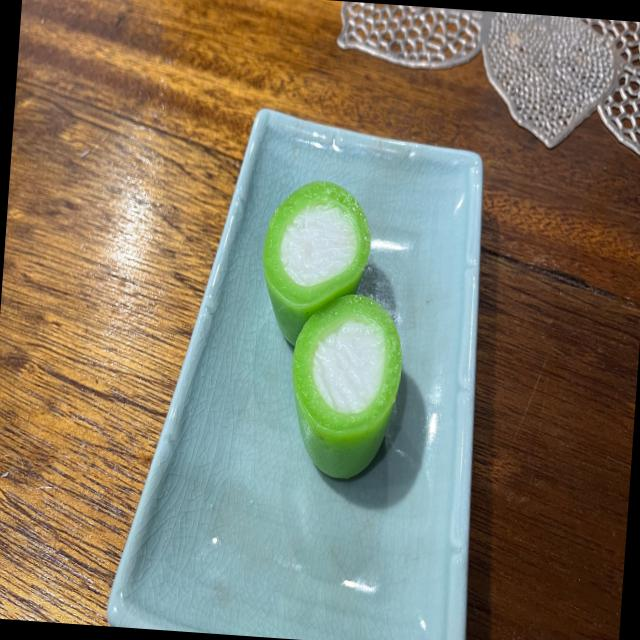nona-manis: (292, 293, 401, 478), (263, 181, 370, 343)
